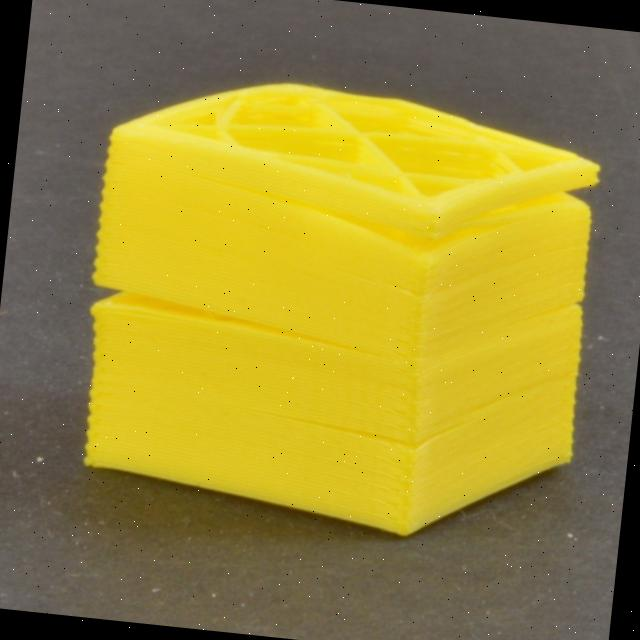cracks: (78, 265, 383, 386), (285, 401, 496, 473), (417, 169, 596, 253)
